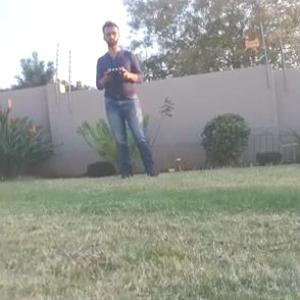follow: (93, 15, 165, 185)
